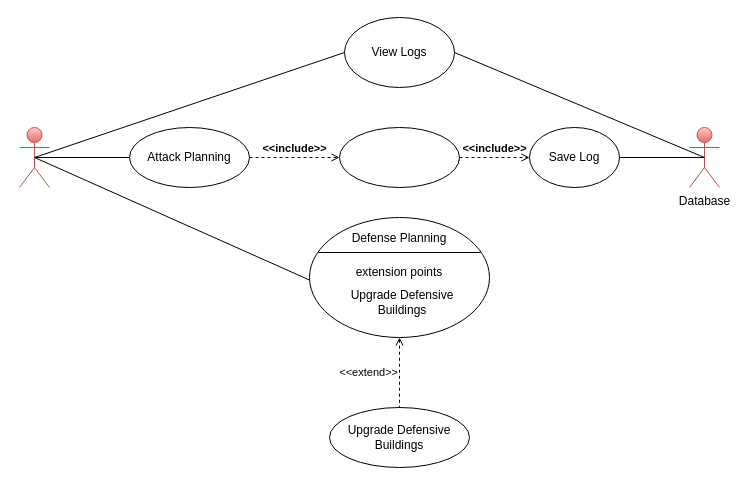
This 747x485 diagram has some shape labels left out. The box of each missing label's shape, as (x1, y1, x2, y2) in pixels:
Execute Attack: (338, 126, 460, 188)
Player: (18, 126, 50, 188)
